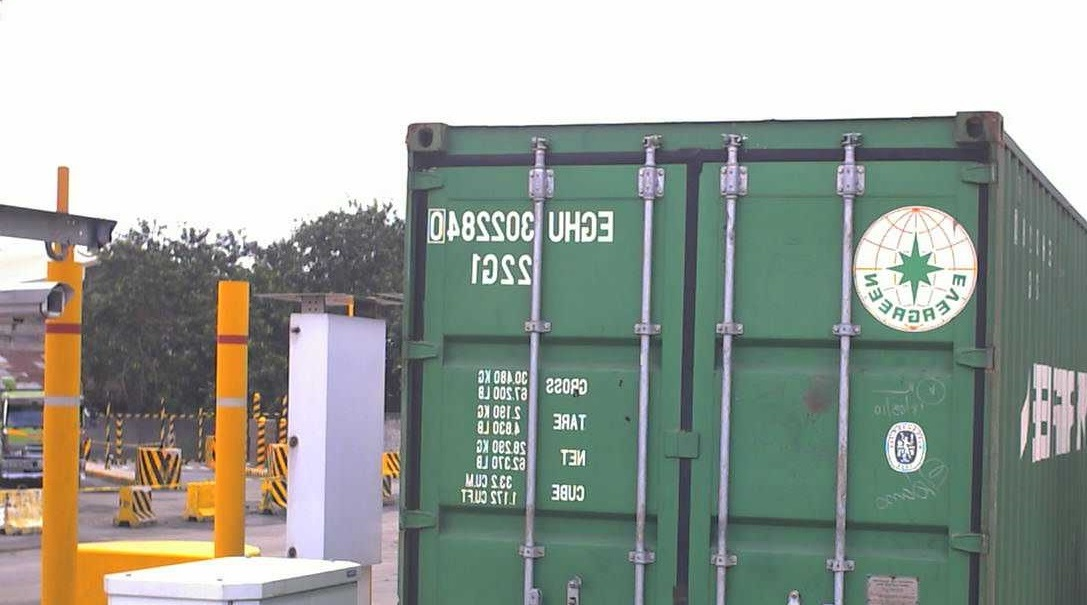container_door: (407, 113, 998, 605)
